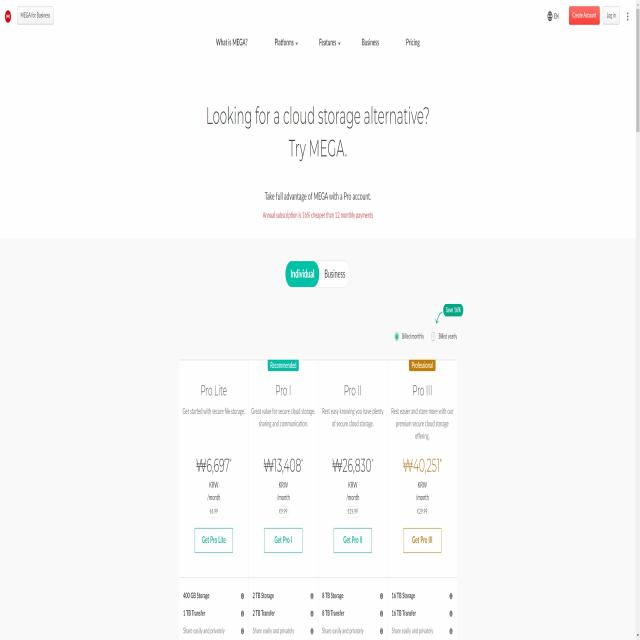menu-bar: (544, 4, 633, 33)
tab-bar: (212, 32, 430, 58)
